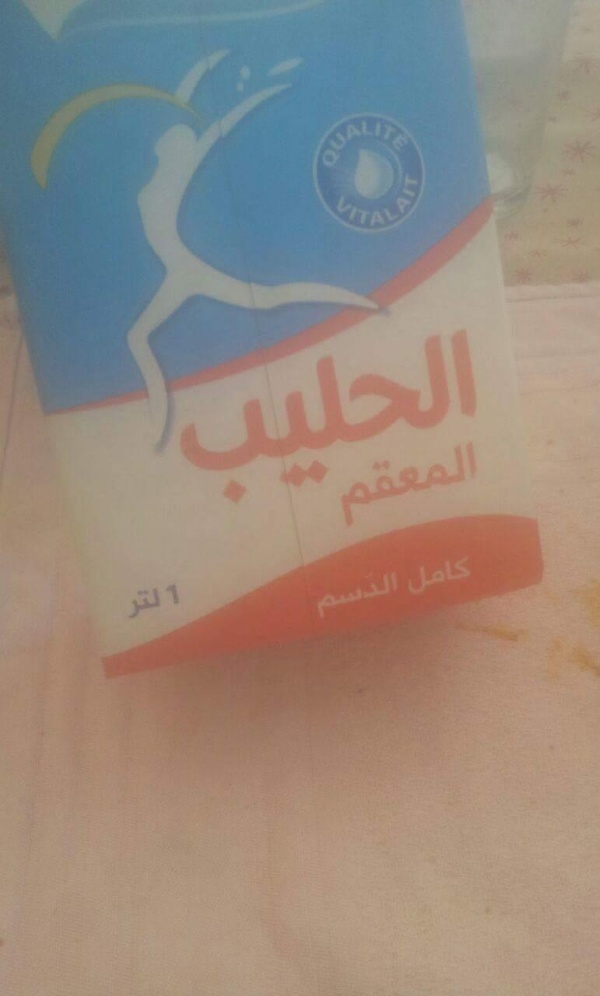text: (177, 316, 192, 520), (193, 316, 208, 520), (209, 316, 224, 520), (225, 316, 240, 520), (241, 316, 256, 520), (257, 316, 272, 520), (273, 316, 288, 520), (289, 316, 304, 520), (305, 316, 320, 520), (321, 316, 336, 520), (337, 316, 352, 520), (353, 316, 368, 520), (369, 316, 384, 520), (385, 316, 400, 520), (401, 316, 416, 520), (417, 316, 432, 520), (433, 316, 448, 520), (449, 316, 464, 520), (465, 316, 480, 520), (465, 437, 481, 528), (337, 437, 352, 528), (353, 437, 368, 528), (369, 437, 384, 528), (385, 437, 400, 528), (401, 437, 416, 528), (417, 437, 432, 528), (433, 437, 448, 528), (449, 437, 464, 528), (337, 171, 352, 236), (353, 171, 368, 236), (369, 171, 384, 236), (385, 171, 400, 236), (401, 171, 416, 236), (321, 111, 336, 171), (337, 111, 352, 171), (353, 111, 368, 171), (369, 111, 384, 171), (385, 111, 400, 171), (385, 565, 401, 621), (321, 565, 336, 621), (337, 565, 352, 621), (353, 565, 368, 621), (369, 565, 384, 621), (172, 316, 176, 520), (401, 111, 413, 171), (309, 111, 320, 171), (417, 555, 432, 597), (433, 555, 448, 597), (449, 555, 464, 597), (481, 316, 484, 520), (404, 555, 416, 597), (129, 586, 144, 619), (145, 586, 160, 619), (465, 555, 474, 597), (314, 565, 320, 621), (417, 171, 422, 236), (165, 583, 176, 607), (334, 171, 336, 236), (125, 586, 128, 619), (161, 586, 164, 619), (177, 583, 181, 607), (335, 437, 336, 528)
